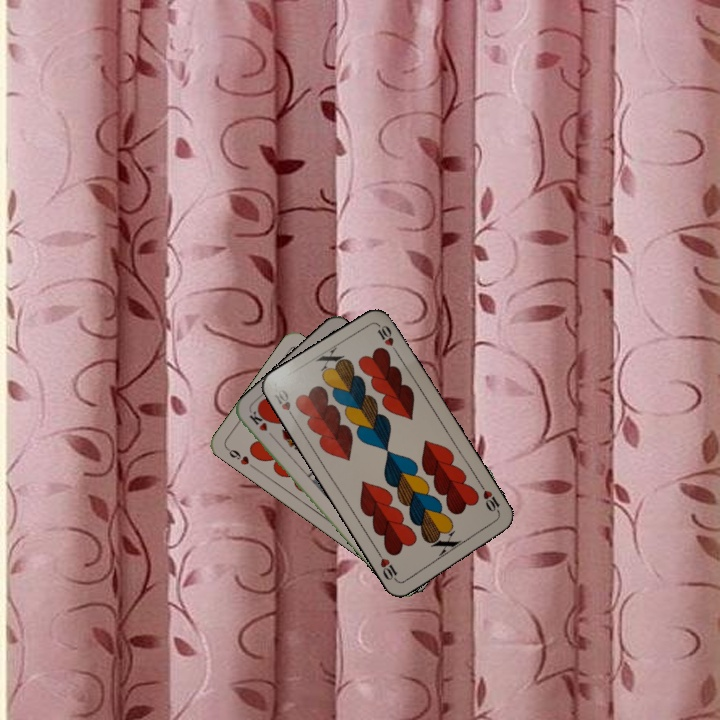H10: (270, 385, 298, 423), (476, 480, 503, 517)
H9: (222, 444, 258, 472)
HK: (245, 407, 278, 442)
